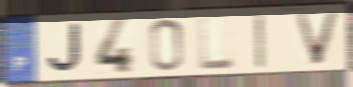0: (148, 16, 185, 73)
4: (93, 17, 138, 76)
I: (252, 11, 267, 71)
J: (45, 21, 84, 76)
L: (196, 14, 237, 72)
V: (291, 10, 344, 67)
